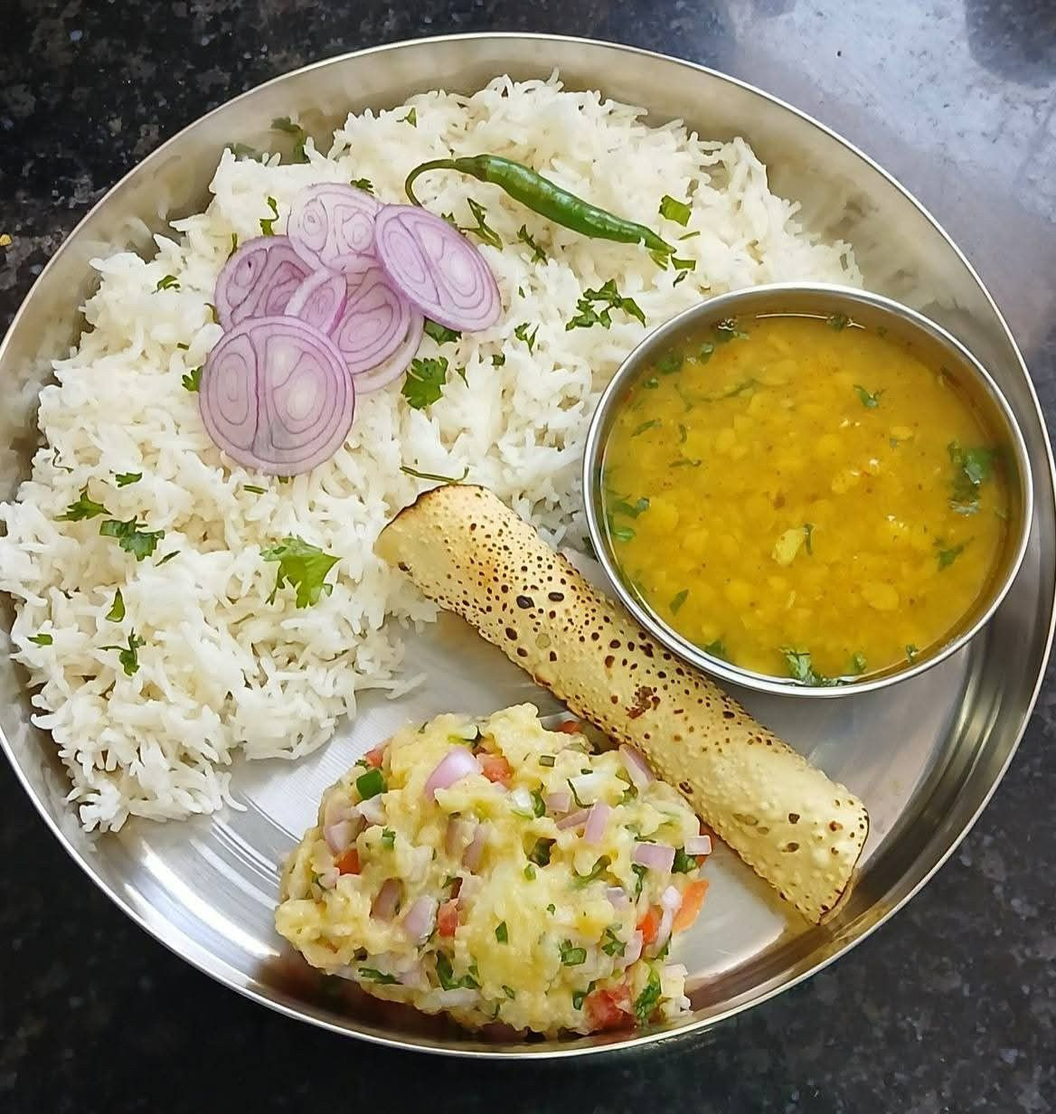bhat: (17, 83, 881, 823)
dal: (613, 310, 1004, 673)
sabji: (260, 713, 690, 1012)
